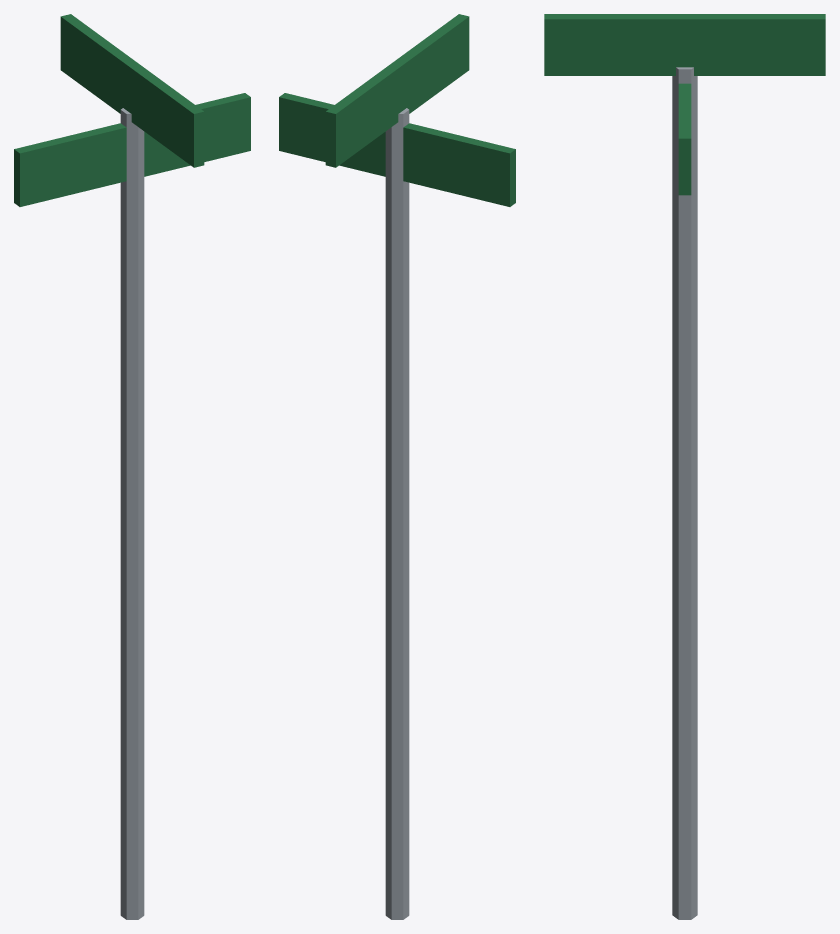
File: Sign_StreetName.glb
3 views of the same model, side by side, from view 1: azimuth 30°, elevation 25°; view 2: azimuth 150°, elevation 25°; view 3: azimuth 270°, elevation 25° (orthographic). The views are drawn at different scales.
Visible parts, largest first — view 1: Sign_StreetName_Metal, Sign_StreetName_Face, Sign_StreetName_FaceB; view 2: Sign_StreetName_Metal, Sign_StreetName_Face, Sign_StreetName_FaceB; view 3: Sign_StreetName_Metal, Sign_StreetName_FaceB, Sign_StreetName_Face.
Part boxes in pixels (x1,y1,x2,y2): Sign_StreetName_Metal: (120,108,144,919); Sign_StreetName_Face: (14,93,250,206); Sign_StreetName_FaceB: (60,14,204,167); Sign_StreetName_Metal: (385,108,409,919); Sign_StreetName_Face: (279,93,515,206); Sign_StreetName_FaceB: (325,14,469,167); Sign_StreetName_Metal: (672,67,697,919); Sign_StreetName_FaceB: (544,14,825,75); Sign_StreetName_Face: (678,83,691,195).
Bounding box in the file's own units: 0.9 × 3.17 × 0.9.
